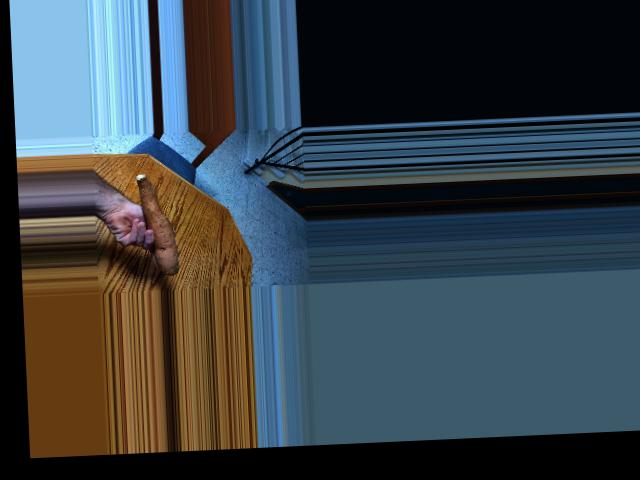sweet_potato: (131, 171, 183, 275)
